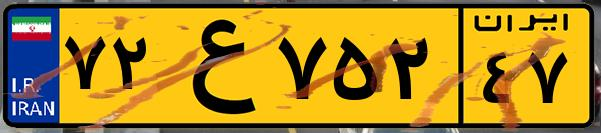2: (385, 28, 445, 110), (110, 28, 158, 98)
4: (475, 38, 525, 113)
5: (330, 28, 385, 110)
7: (270, 28, 330, 110), (57, 26, 110, 100), (525, 38, 570, 115)
ع: (158, 12, 270, 120)
